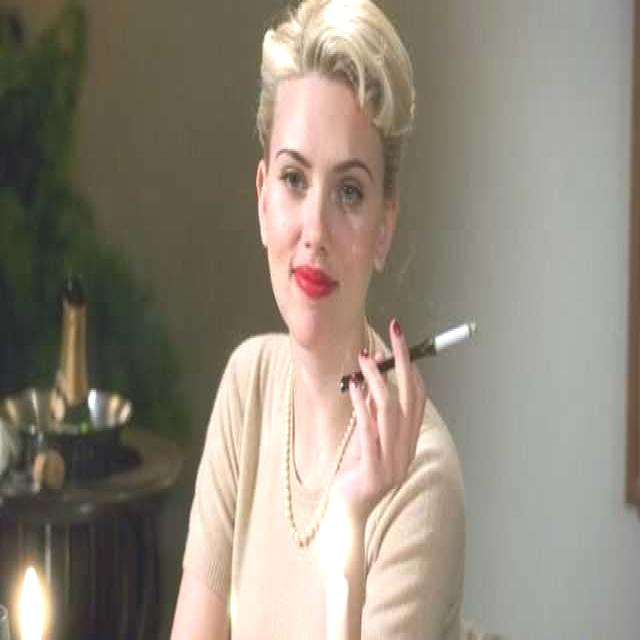Smooking: (340, 296, 482, 414)
